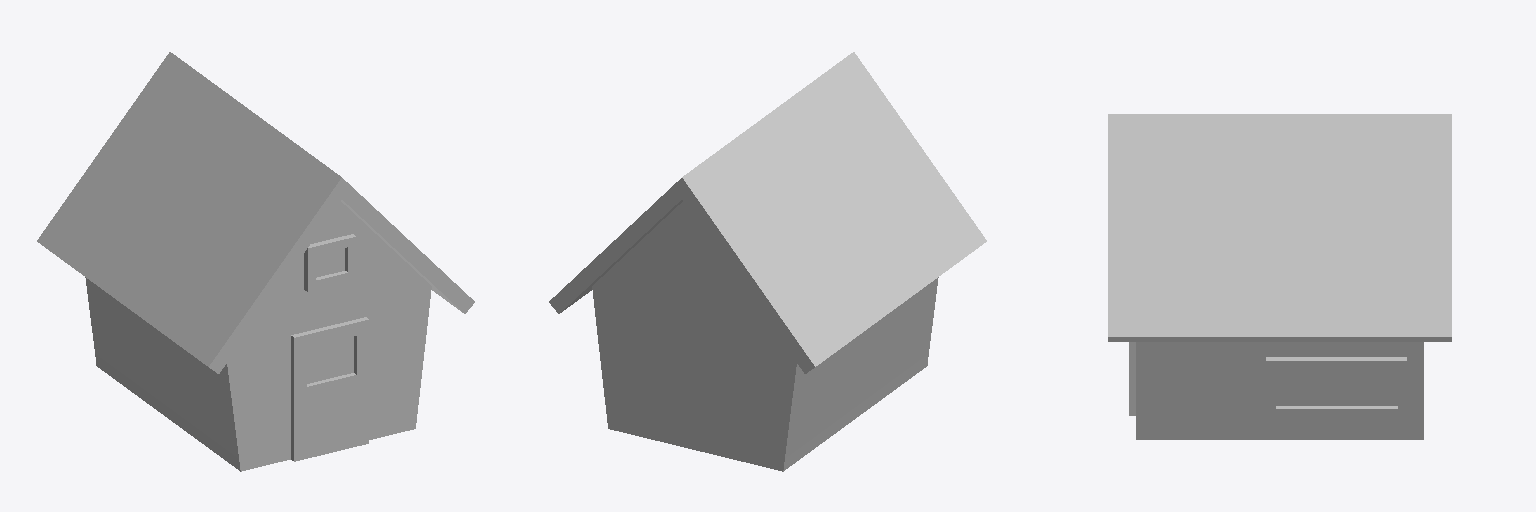
The model's file is home.obj.
The picture shows the model from 3 angles: view 1: azimuth 30°, elevation 25°; view 2: azimuth 150°, elevation 25°; view 3: azimuth 270°, elevation 25°; orthographic projection.
Parts seen in each view (by area): view 1: polySurface47; view 2: polySurface47; view 3: polySurface47.
Boxes of the visible parts, box(x1,y1,x2,y2) form: polySurface47: box(37, 52, 474, 471); polySurface47: box(549, 52, 986, 471); polySurface47: box(1108, 114, 1451, 439).
Size of the model in its own units: 40.09 by 40.67 by 44.76.